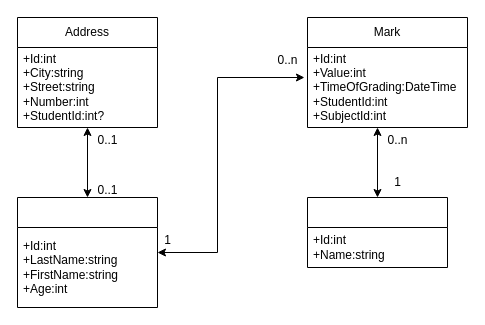
This 485x325 diagram has some shape labels left out. The box of each missing label's shape, as (x1, y1, x2, y2) in pixels:
Student: (16, 196, 158, 308)
Subject: (306, 196, 448, 268)
